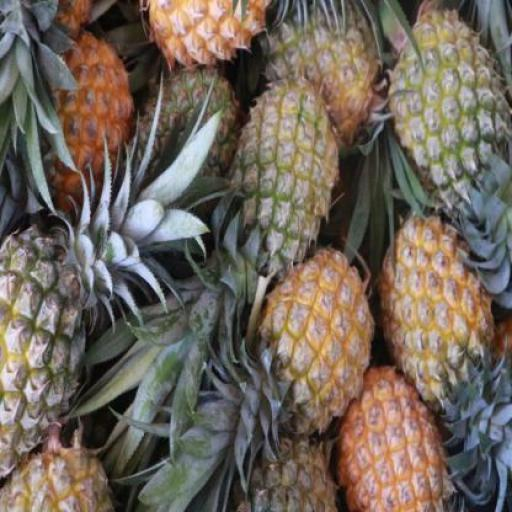------------------------------: (386, 3, 505, 217), (0, 232, 86, 490), (229, 79, 335, 275), (266, 8, 384, 150)
Pineapple - v8 v1: (380, 214, 489, 409), (259, 254, 366, 438), (334, 365, 447, 512)
